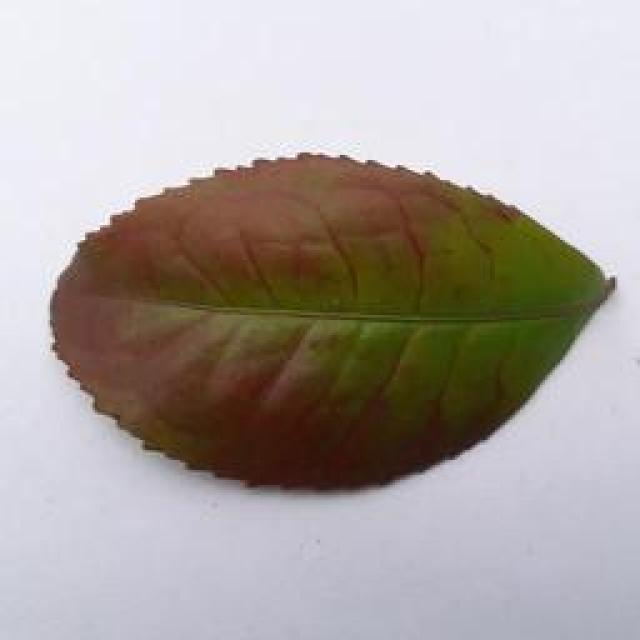Red Leaf Spot: (39, 150, 640, 508)
